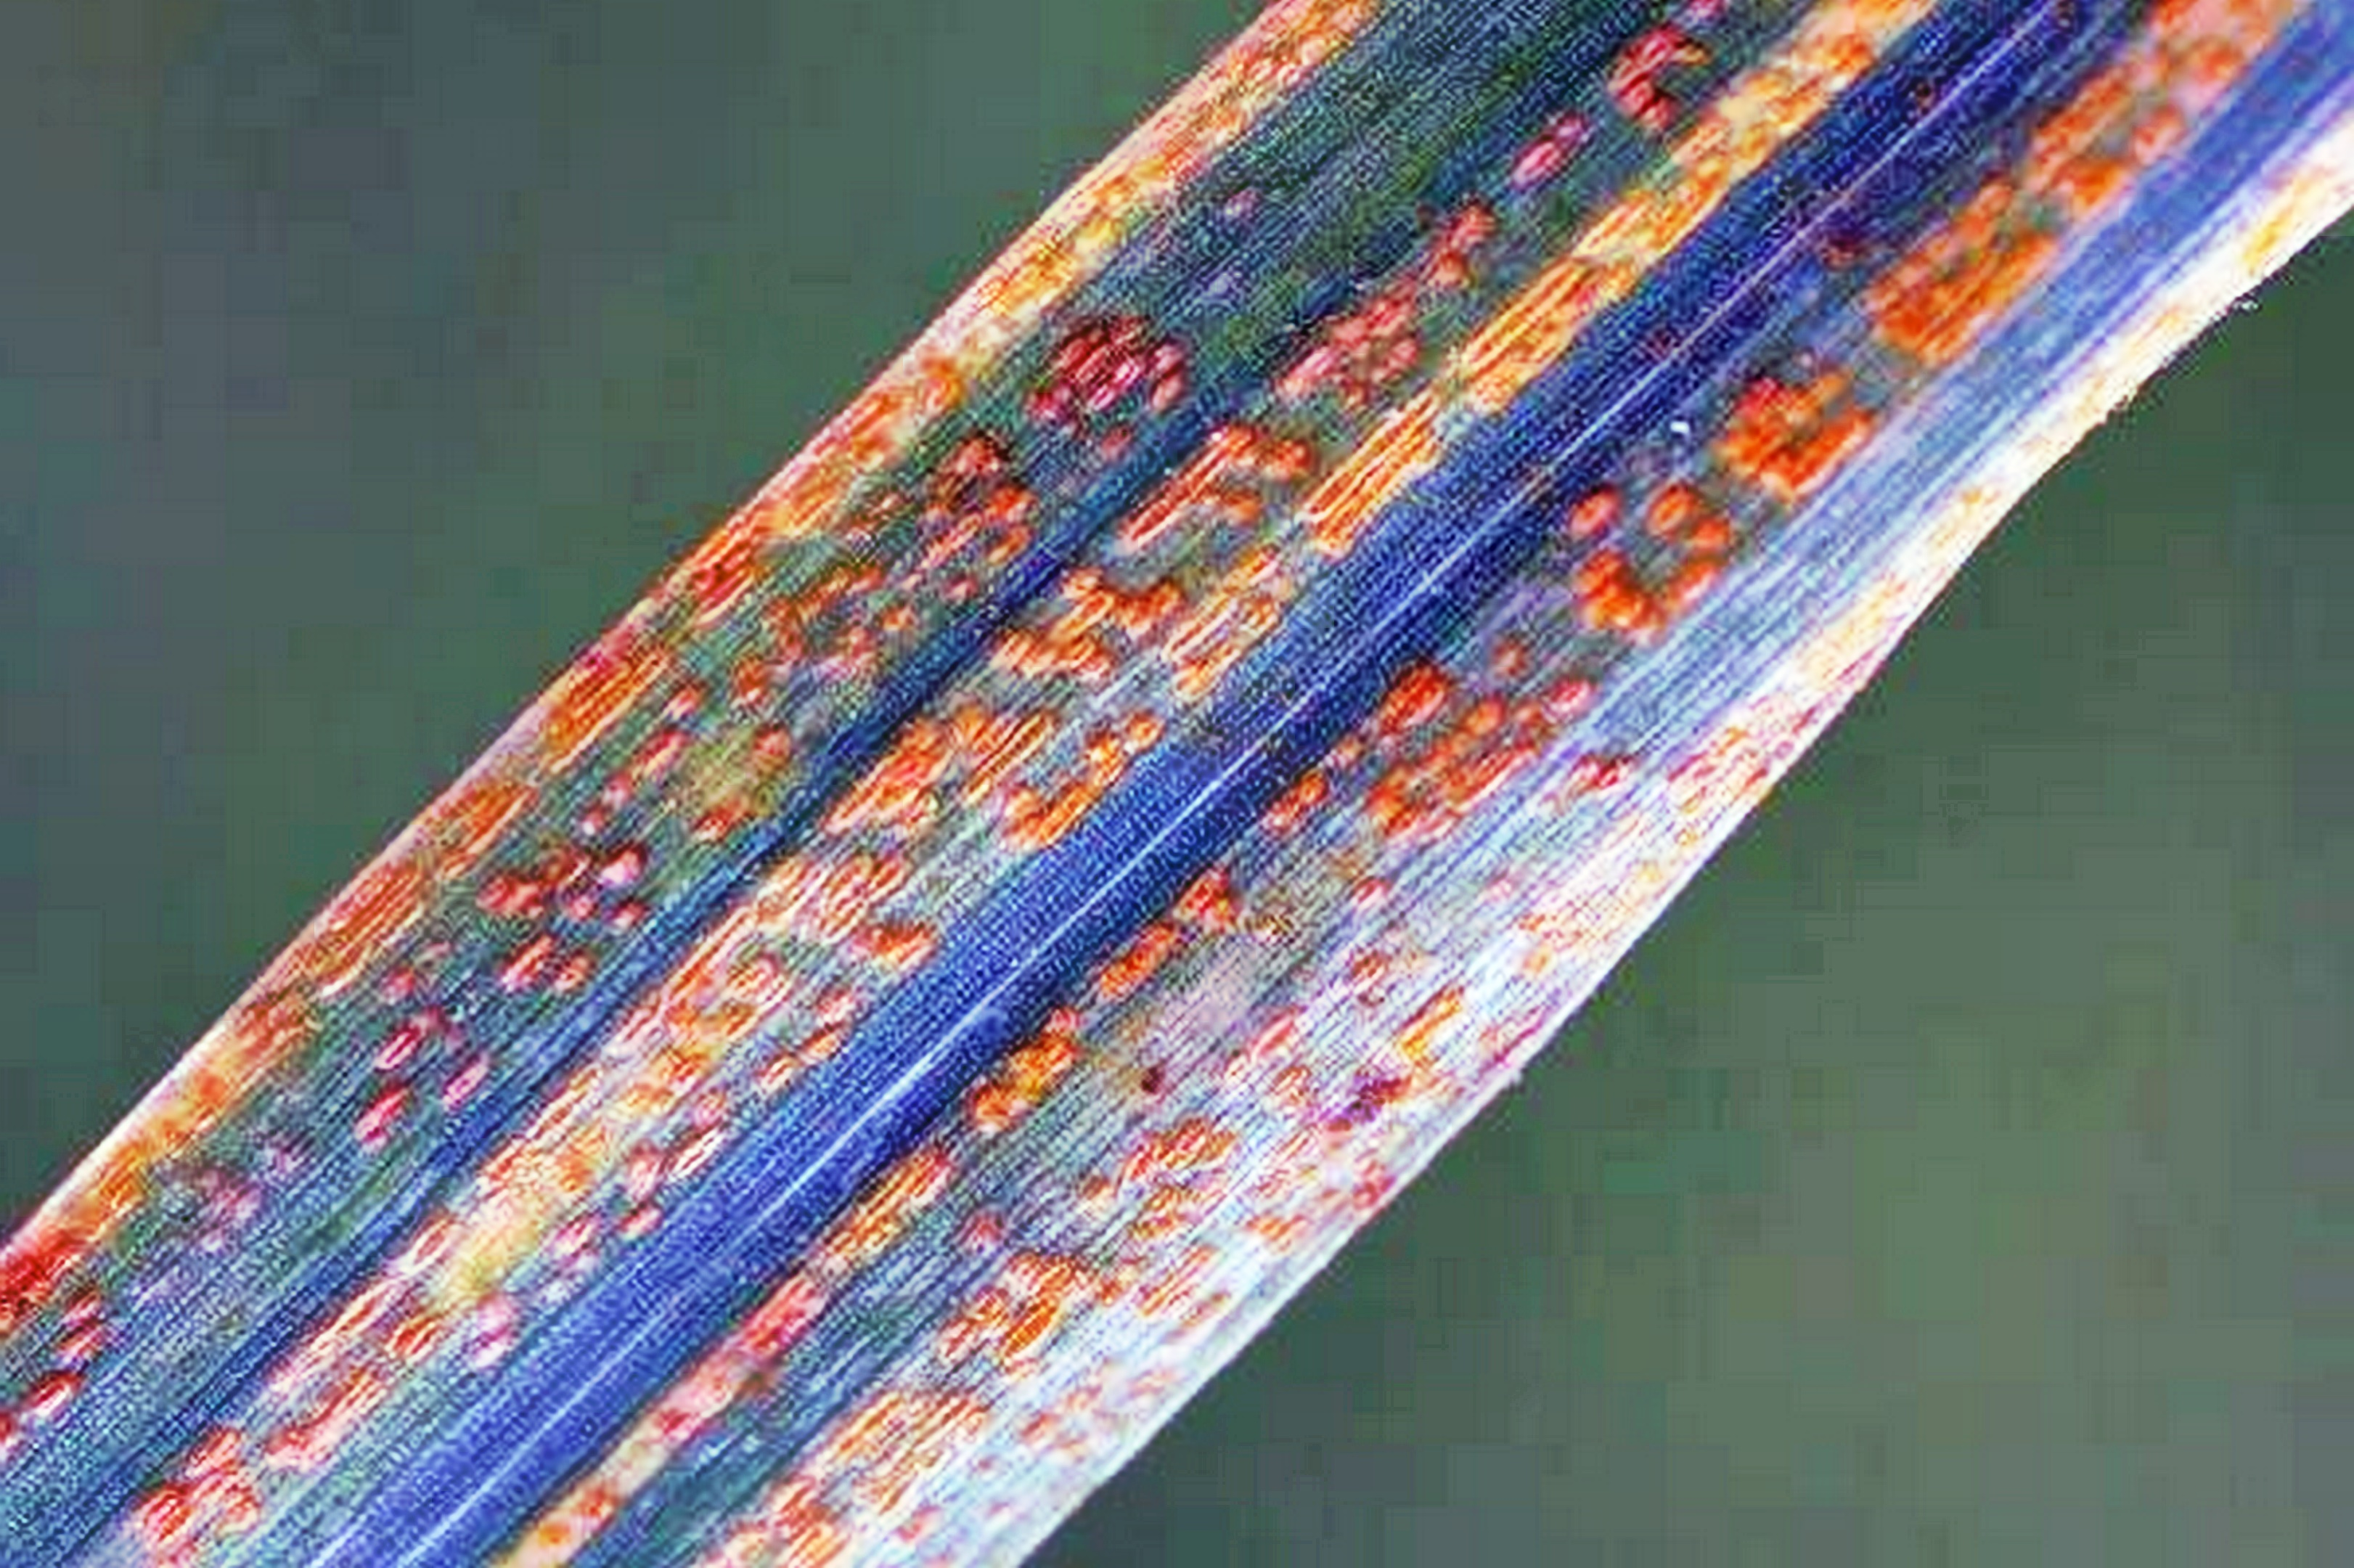Leaf Rust: (439, 80, 1992, 1494)
